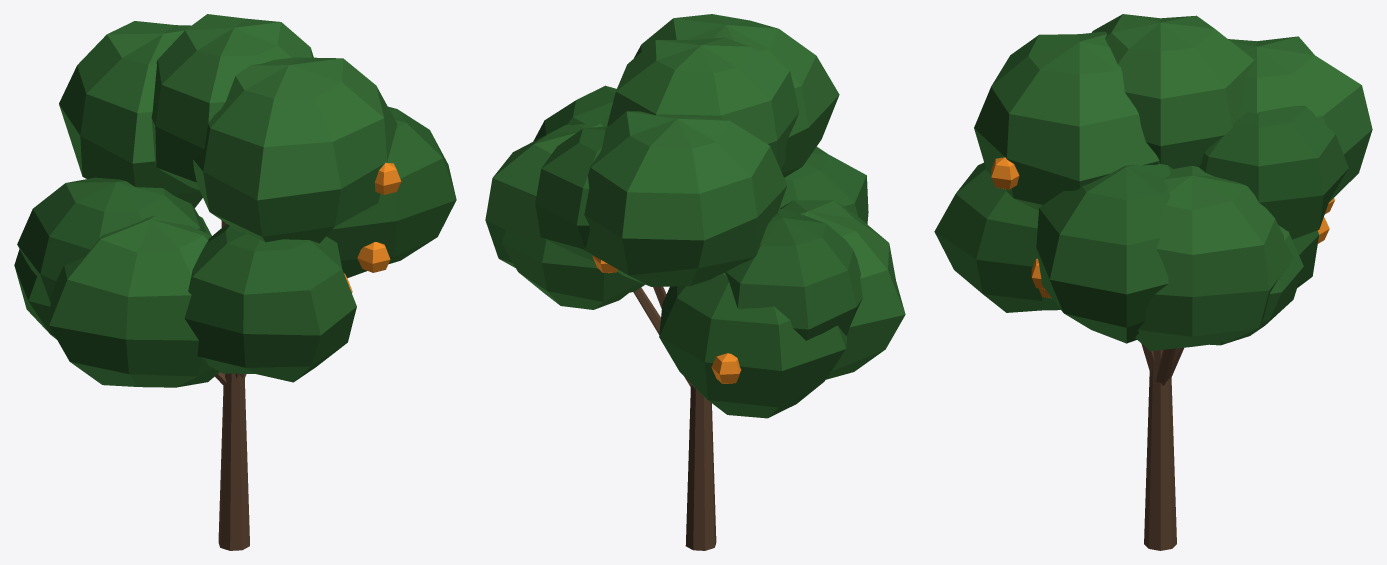
Rendered from tree_orange_small.glb.
3 views of the same model, side by side, from view 1: azimuth 30°, elevation 25°; view 2: azimuth 150°, elevation 25°; view 3: azimuth 270°, elevation 25° (orthographic). The views are drawn at different scales.
Visible parts, largest first — view 1: tree_orange_small; view 2: tree_orange_small; view 3: tree_orange_small.
Part boxes in pixels (x1,y1,x2,y2): tree_orange_small: [14, 14, 456, 550]; tree_orange_small: [485, 14, 905, 550]; tree_orange_small: [934, 14, 1372, 550].
Bounding box in the file's own units: 3.52 × 4.38 × 3.34.
